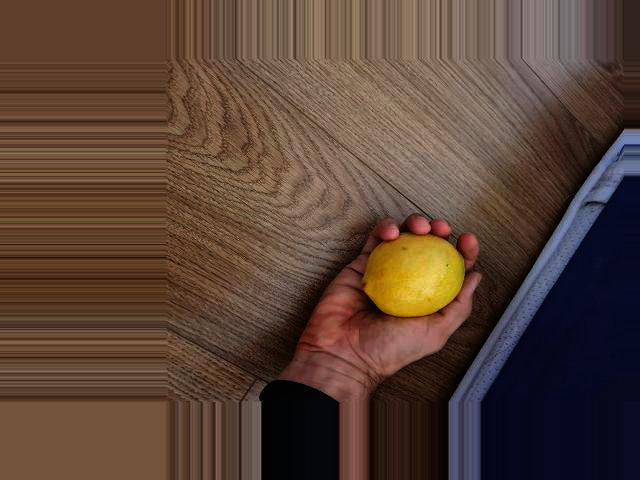lemon: (359, 229, 465, 316)
